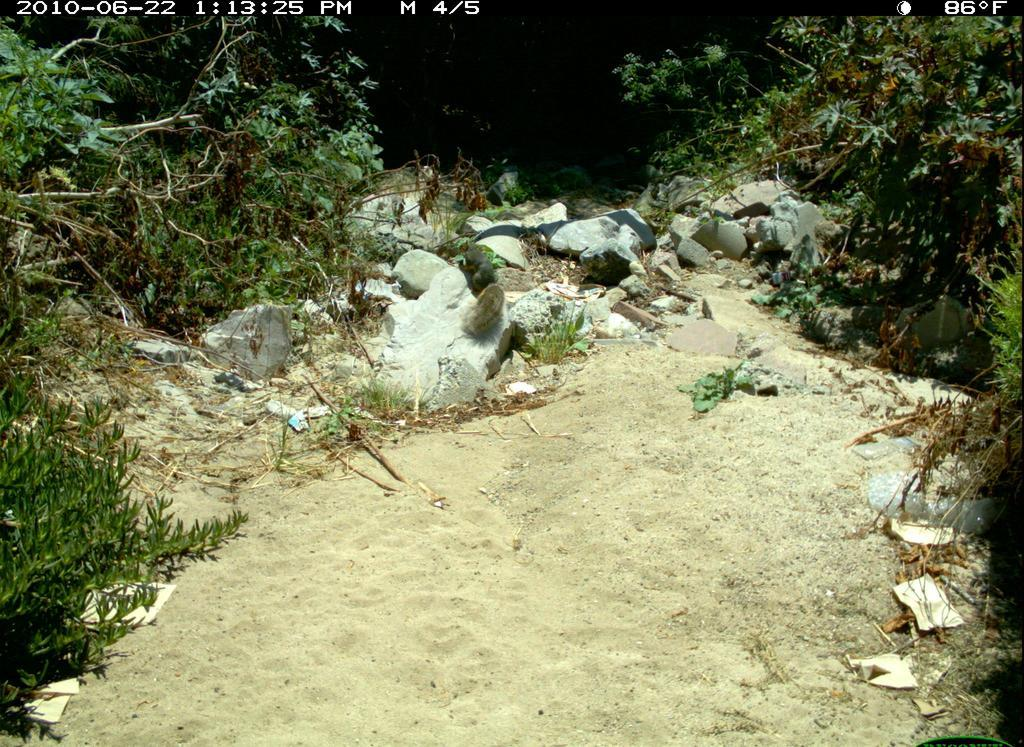squirrel: (461, 283, 511, 336)
